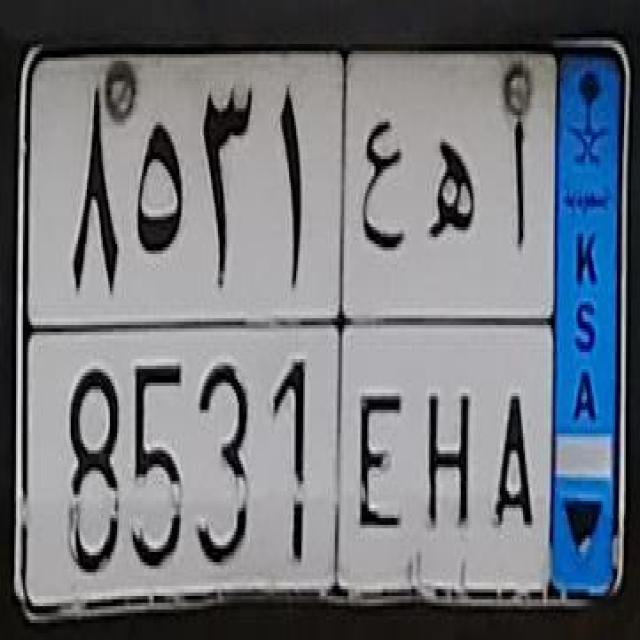license_plate: (17, 40, 632, 613)
